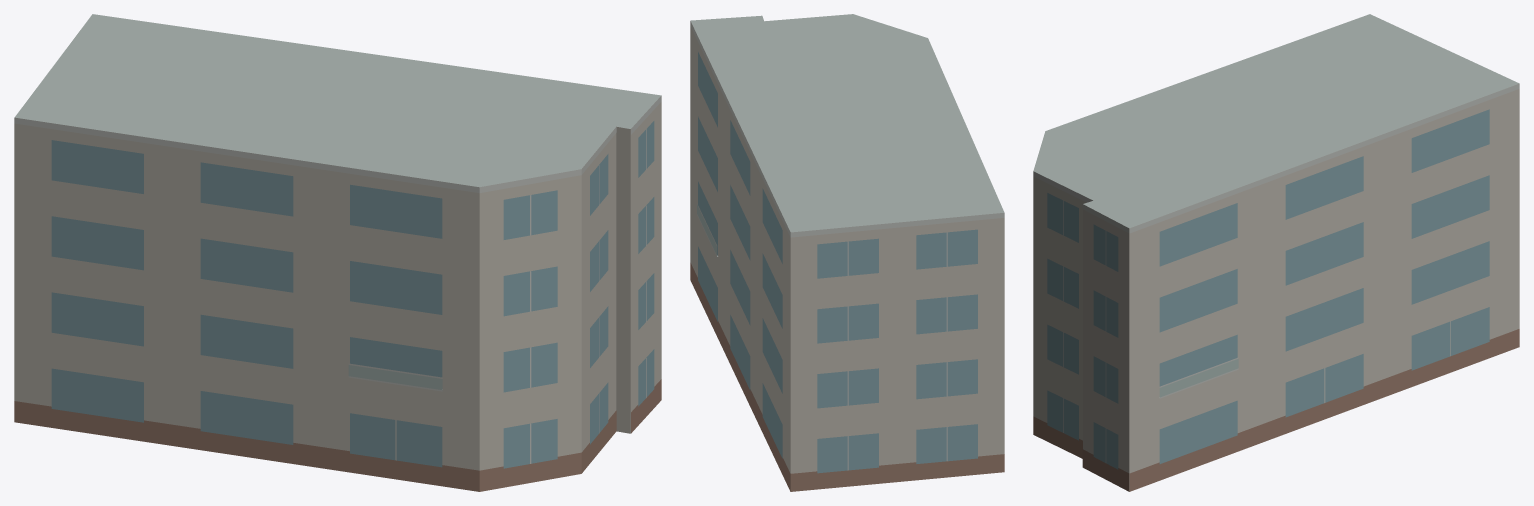
The model's file is survey-upis-32977544.glb.
The picture shows the model from 3 angles, left to right: view 1: azimuth 30°, elevation 25°; view 2: azimuth 150°, elevation 25°; view 3: azimuth 270°, elevation 25°; orthographic projection. The views are drawn at different scales.
Parts seen in each view (by area): view 1: survey-upis-32977544.tmp; view 2: survey-upis-32977544.tmp; view 3: survey-upis-32977544.tmp.
Boxes of the visible parts, x1,y1,x2,y2 form: survey-upis-32977544.tmp: [14, 14, 661, 491]; survey-upis-32977544.tmp: [690, 14, 1004, 491]; survey-upis-32977544.tmp: [1033, 14, 1519, 491].
Bounding box in the file's own units: 21.65 × 12.4 × 20.76.
